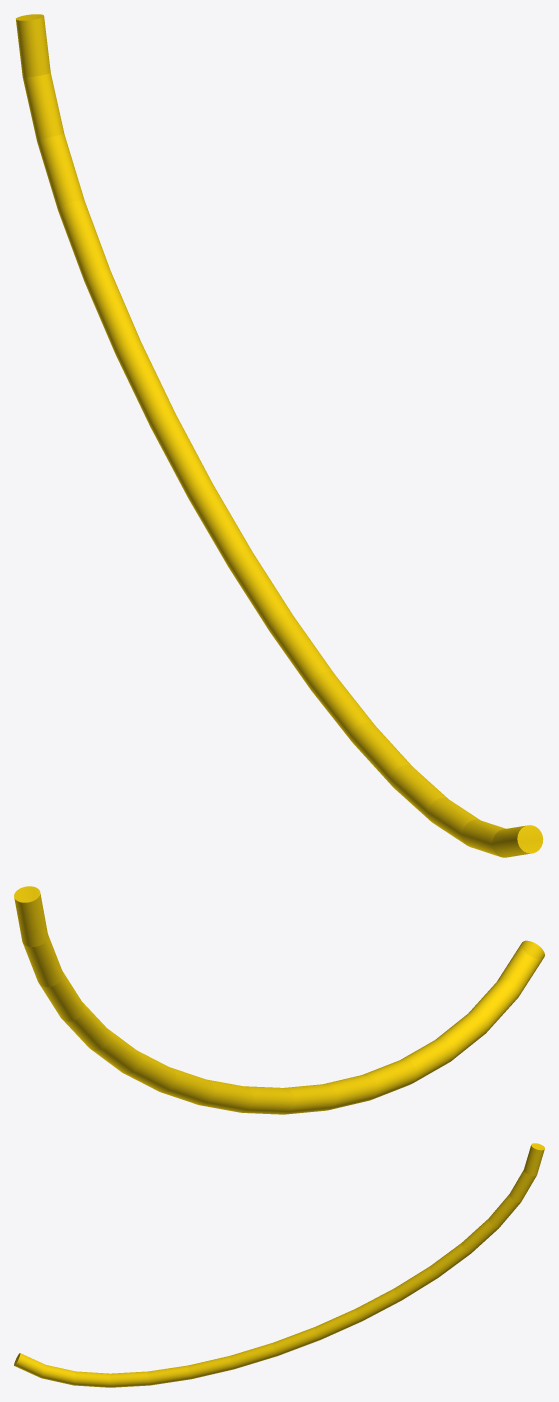
File: Event_421127236_track_55.fbx
3 renders of one model, top to bottom at view 1: azimuth 30°, elevation 25°; view 2: azimuth 150°, elevation 25°; view 3: azimuth 270°, elevation 25°, orthographic. The views are drawn at different scales.
Visible parts, largest first — view 1: Model; view 2: Model; view 3: Model.
Boxes of the visible parts, <box> form: Model: <box>16,14,543,857</box>; Model: <box>14,886,544,1114</box>; Model: <box>14,1143,544,1387</box>.
Size of the model in its own units: 0.0732 by 0.7597 by 1.48.
